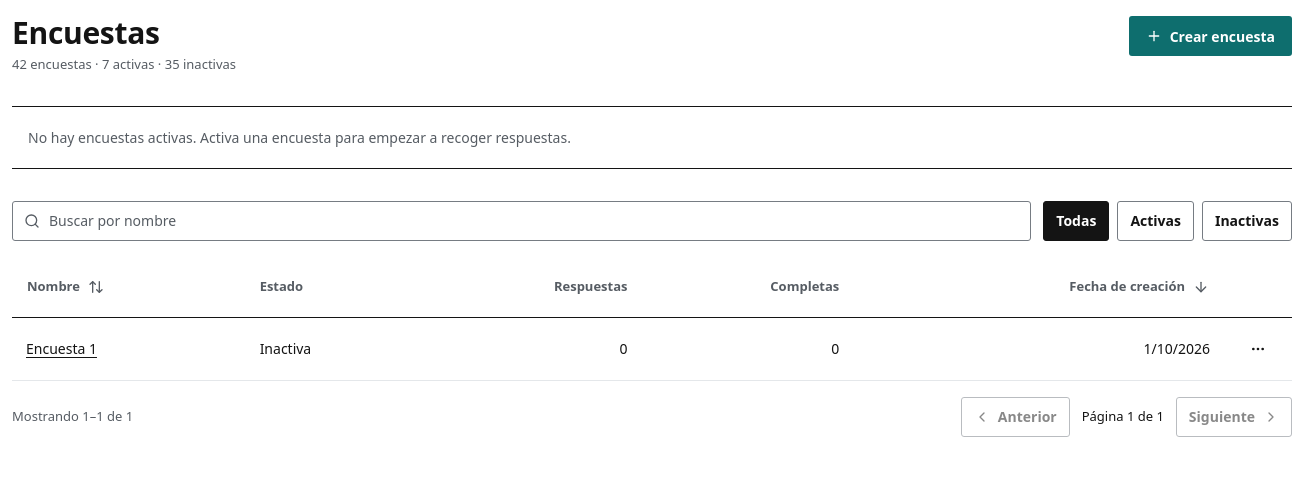
Test case: Survey list: title, summary line and table (REQ-FE-017) › AC-FE-017-3: Crear encuesta button and the table columns, numeric ones right-aligned in tabular figures
The width and height of the screenshot is (1304, 487).
Expected: the column headings read "Nombre", "Estado", "Respuestas", "Completas", "Fecha de creación", "Acciones", in this order, 12,257 -> 246,317; 246,257 -> 420,317; 420,257 -> 642,317; 642,257 -> 853,317; 853,257 -> 1224,317; 1224,257 -> 1292,317
Expected: the text "Inactiva" is shown, 260,338 -> 311,359
Click the button named "Acciones de Encuesta 1". click: x=1258, y=349
box: 1238,329 -> 1278,369
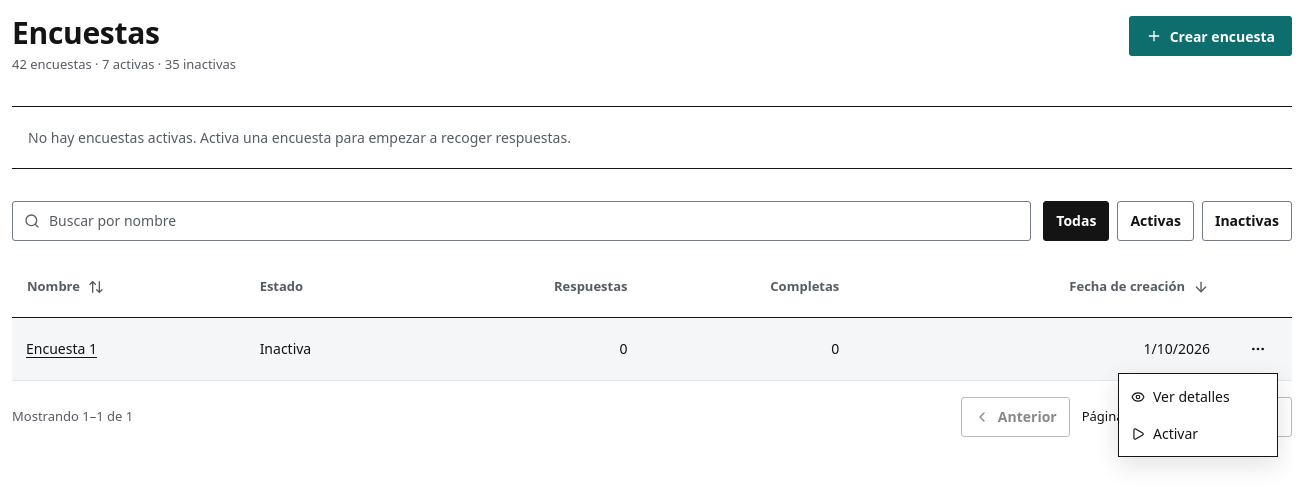
Result: the menu item "Ver detalles" is shown at 1131,387 -> 1230,406
Result: the menu item "Activar" is shown at 1131,424 -> 1198,443
